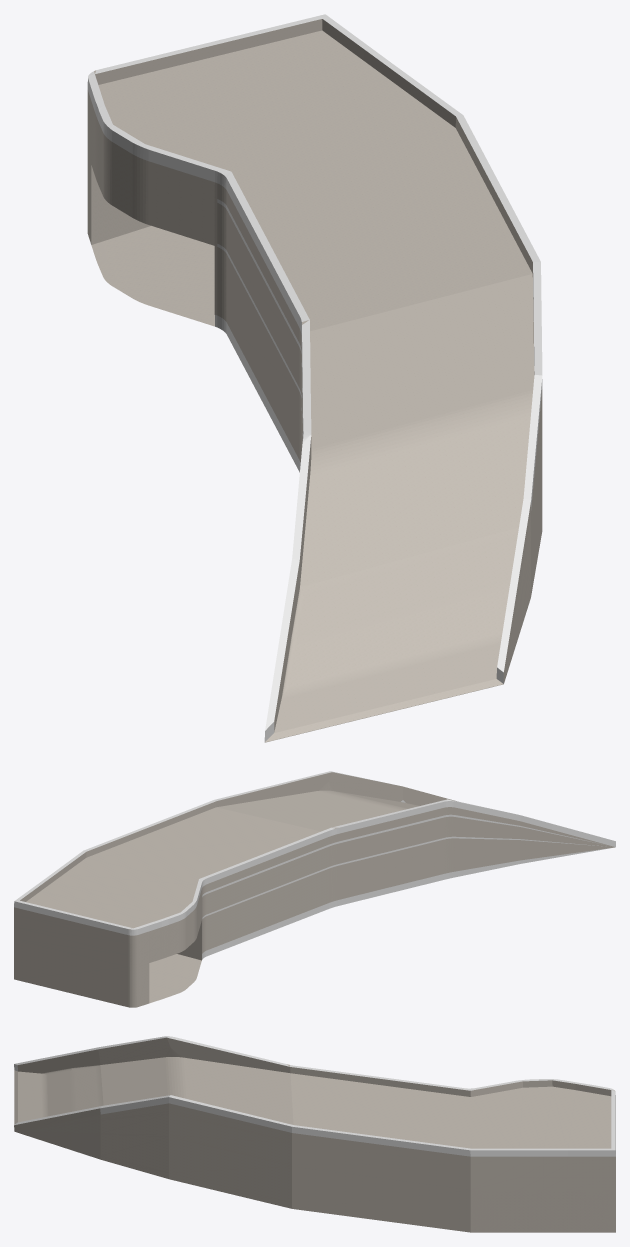
Rendered from building.fbx.
3 renders of one model, top to bottom at view 1: azimuth 30°, elevation 25°; view 2: azimuth 150°, elevation 25°; view 3: azimuth 270°, elevation 25°, orthographic. The views are drawn at different scales.
Parts seen in each view (by area): view 1: Building00; view 2: Building00; view 3: Building00.
Part boxes in pixels (left/top/right/bottom): Building00: left=87, top=14, right=542, bottom=742; Building00: left=14, top=771, right=615, bottom=1007; Building00: left=14, top=1036, right=615, bottom=1232.
Bounding box in the file's own units: 3097 × 735 × 4853.
